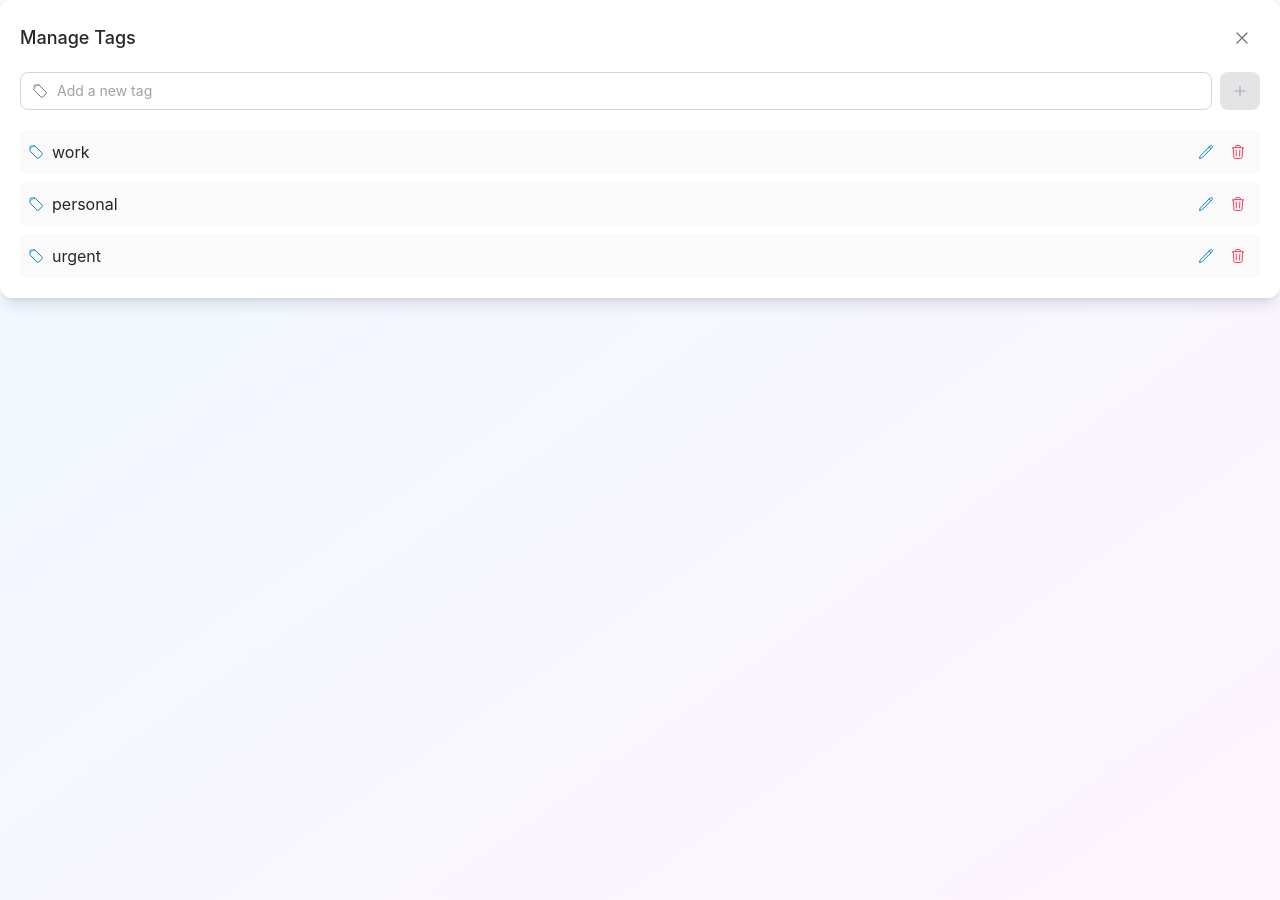
TagManager Component › adds a tag when add button is clicked
Type "new-test-tag" into the field with test id "new-tag-input". click: [616, 91]
box: top-left (20, 72), bottom-right (1212, 110)
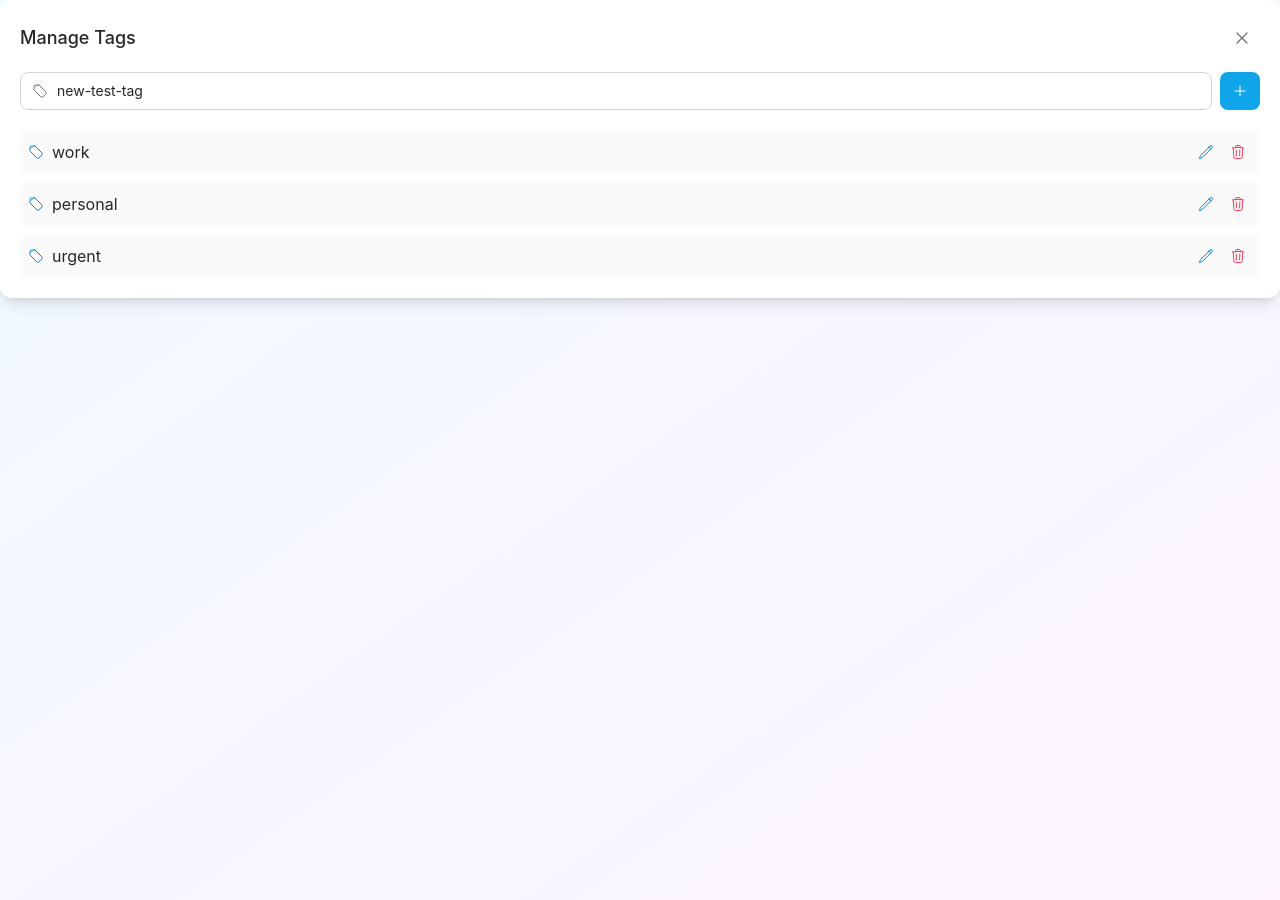
Click the button with test id "add-tag". click: [1240, 91]
box: top-left (1220, 72), bottom-right (1260, 110)
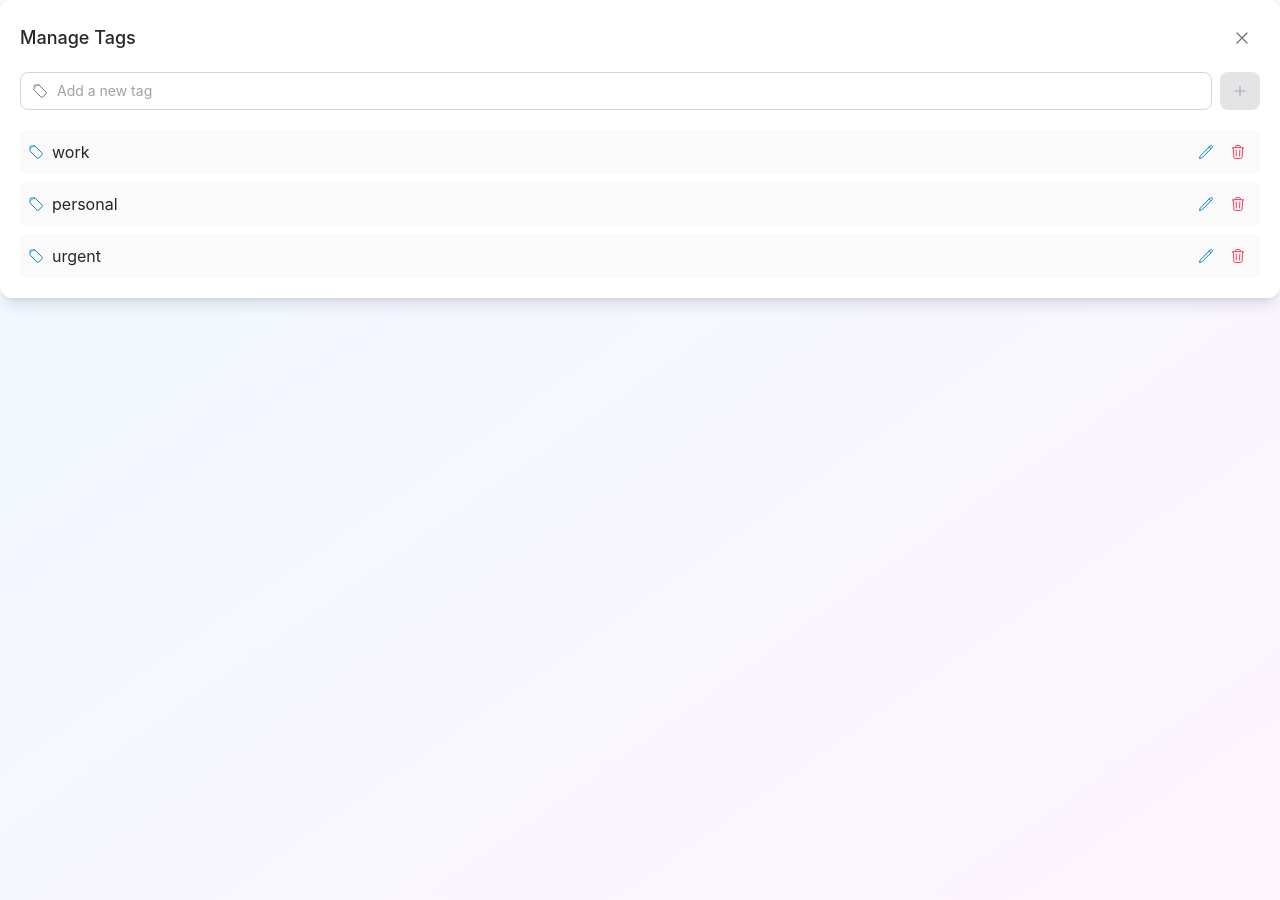
Check: the field with test id "new-tag-input" is empty, box top-left (20, 72), bottom-right (1212, 110)
